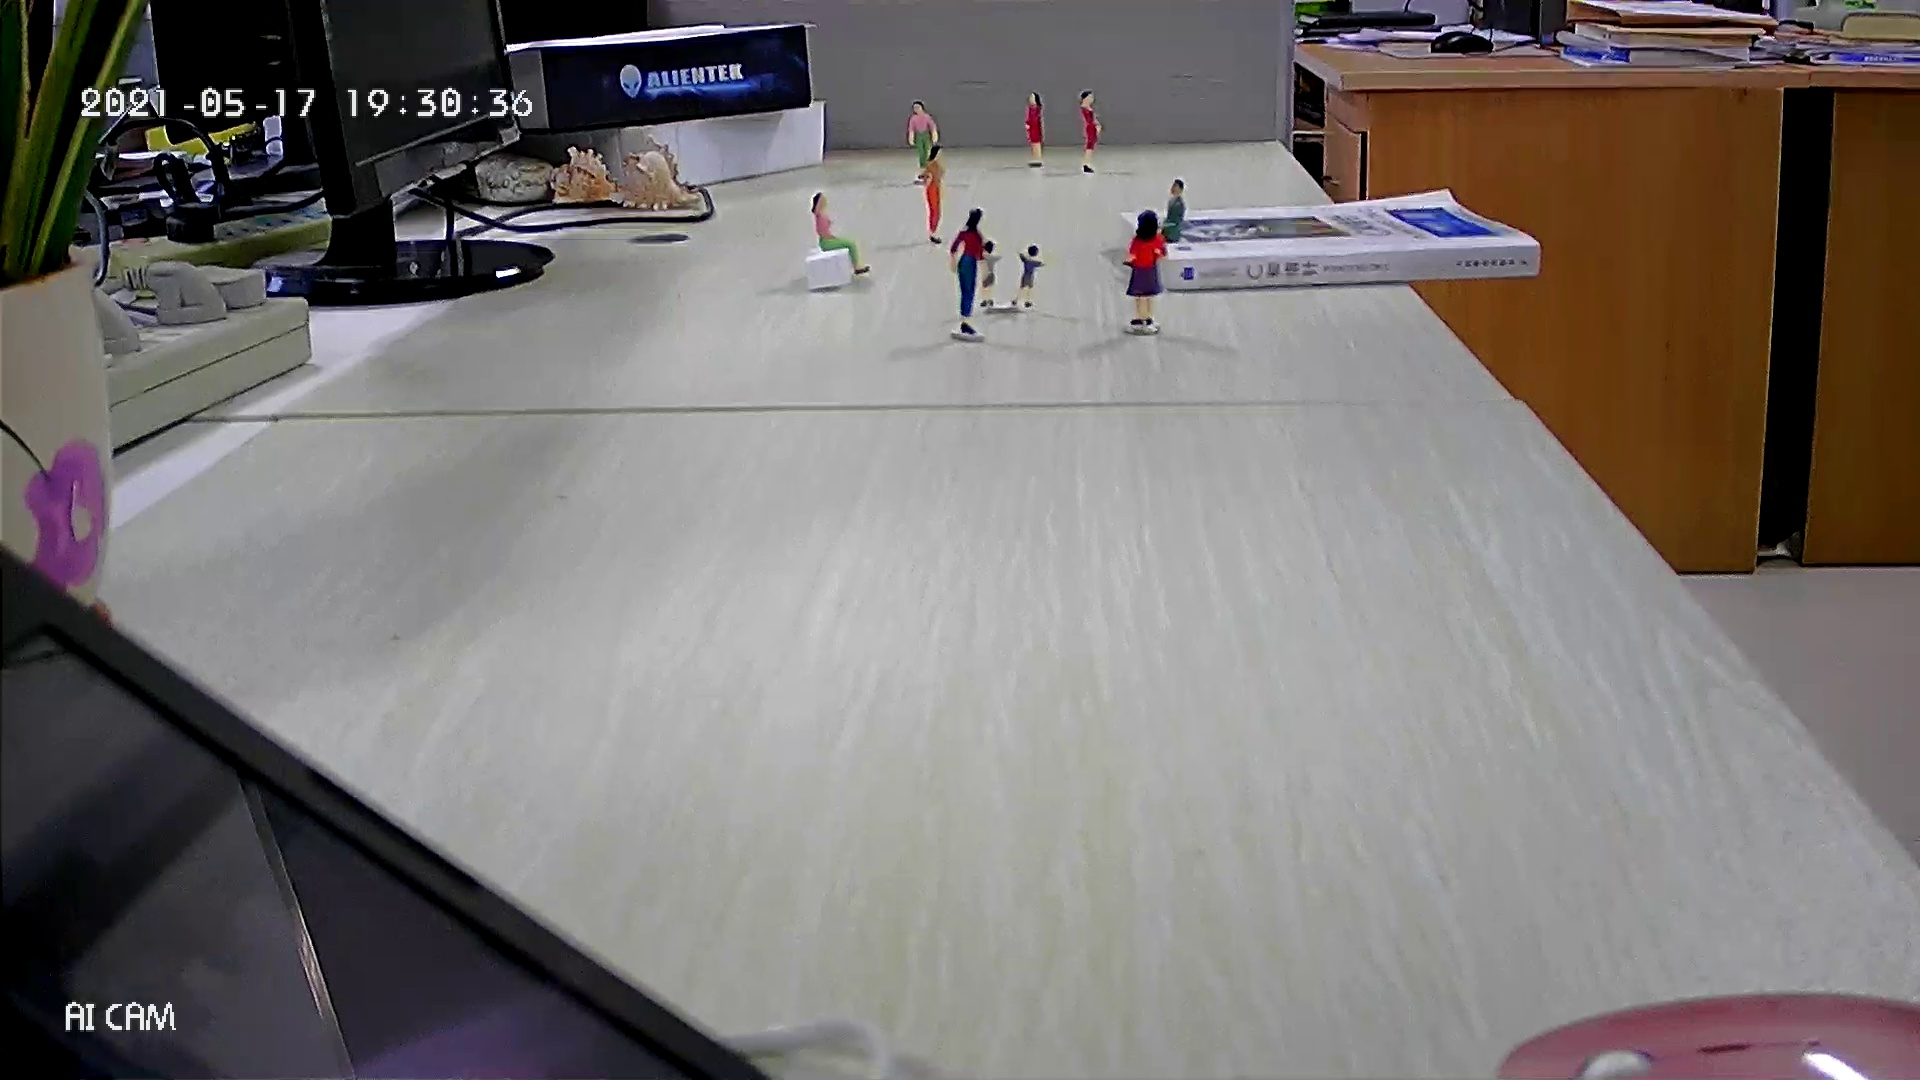person: (1119, 178, 1191, 270), (1119, 204, 1171, 330), (807, 188, 871, 280), (947, 204, 989, 340), (921, 140, 949, 248), (905, 98, 937, 184), (1011, 242, 1051, 312), (1075, 84, 1103, 178), (1019, 88, 1049, 170), (977, 236, 1007, 314)
